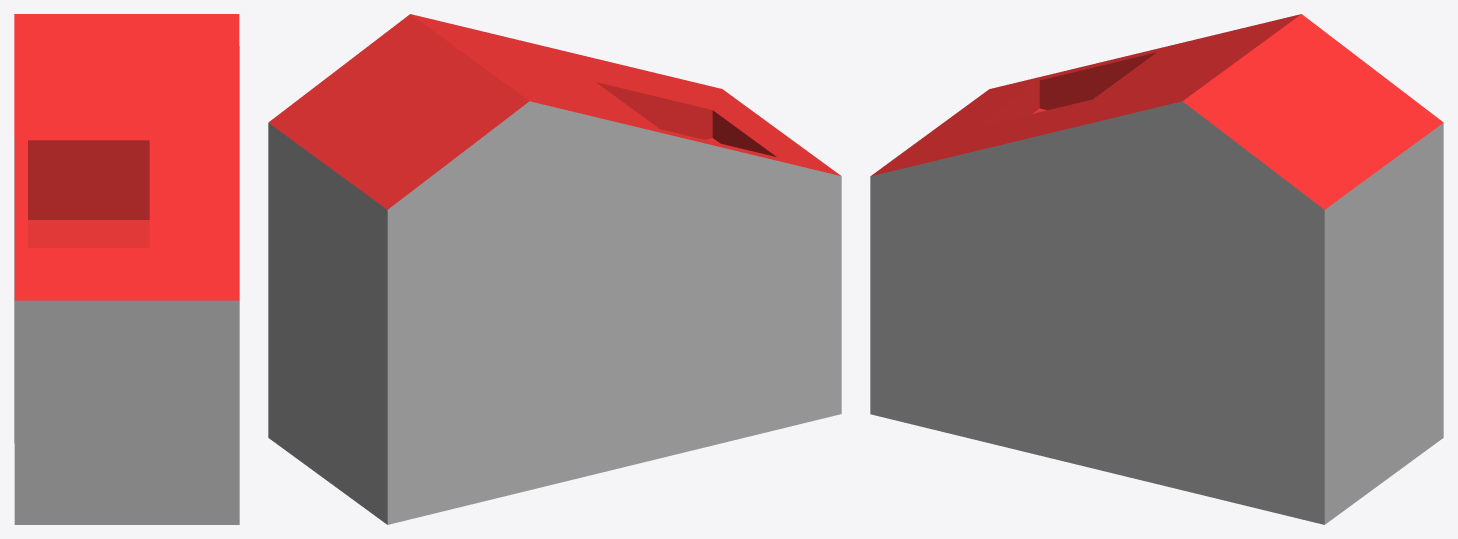
The model's file is pb-9635c0f5-7f36-11f0-9988-9c7bef4dcf4c.dae.
The picture shows the model from 3 angles, left to right: view 1: azimuth 30°, elevation 25°; view 2: azimuth 150°, elevation 25°; view 3: azimuth 270°, elevation 25°; orthographic projection. The views are drawn at different scales.
Size of the model in its own units: 9.83 by 12.03 by 9.
